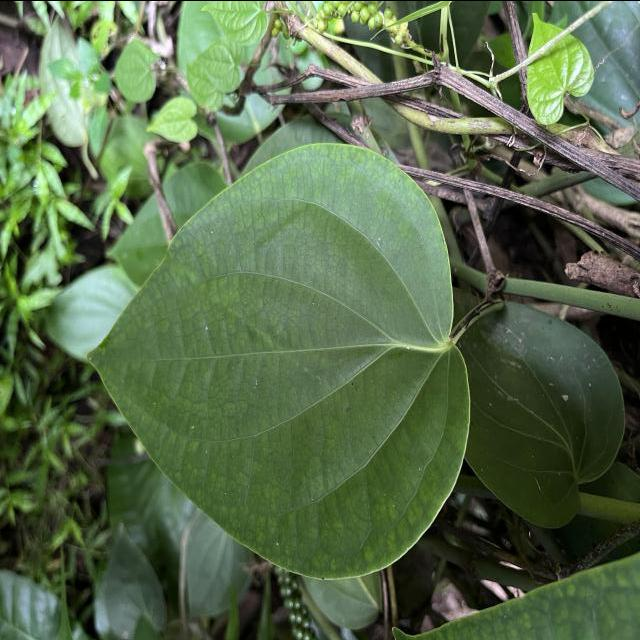Piper nigrum: (82, 138, 476, 582)
